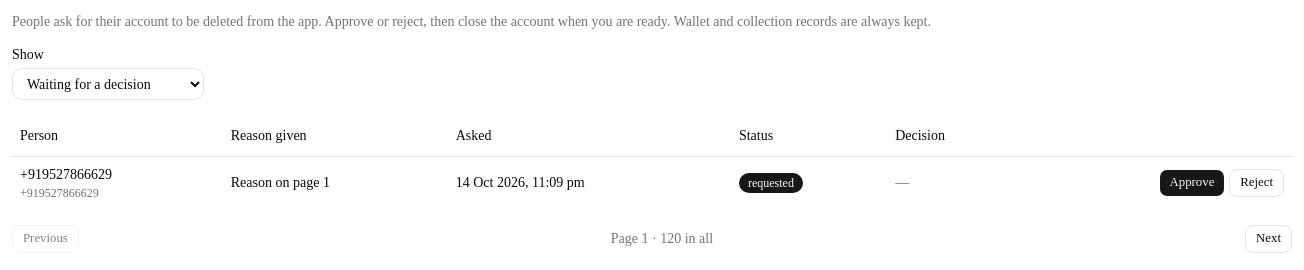
DeletionTab paging › goes back to the first page when the status changes
Expected: the text "Reason on page 1" is shown, [223, 156, 448, 208]
Click the button "Next" at (1269, 238), box [1245, 224, 1292, 252]
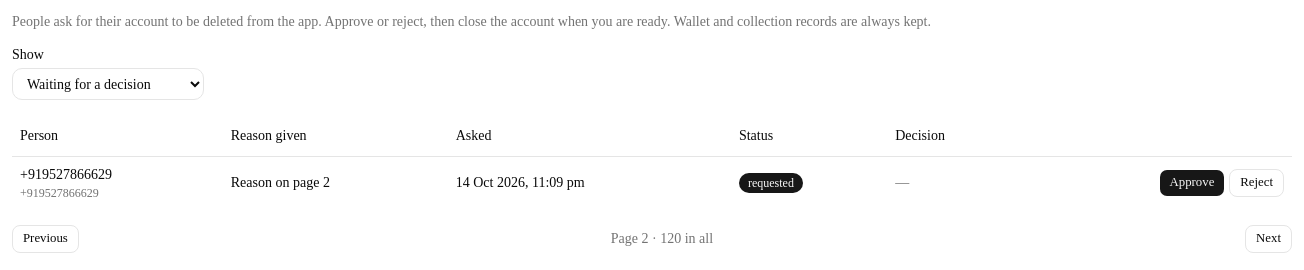
Expected: the text "Reason on page 2" is shown, [223, 156, 448, 208]
Select "Approved, not closed" in the dropdown labelled "Show" at (108, 84), box [12, 68, 204, 100]
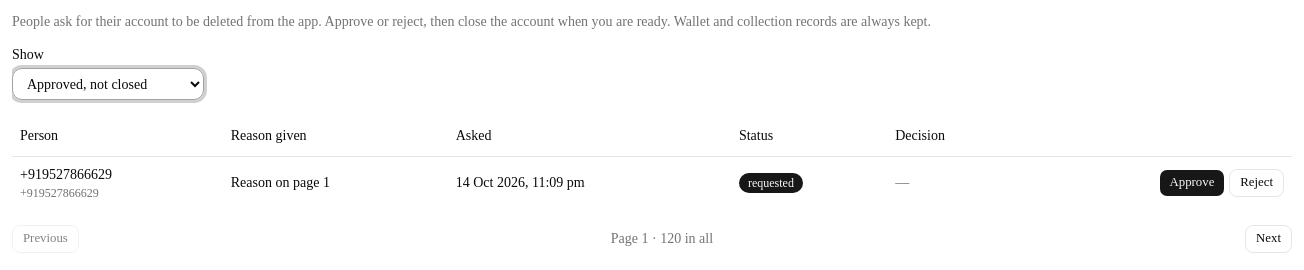
Expected: the text "Reason on page 1" is shown, [223, 156, 448, 208]
